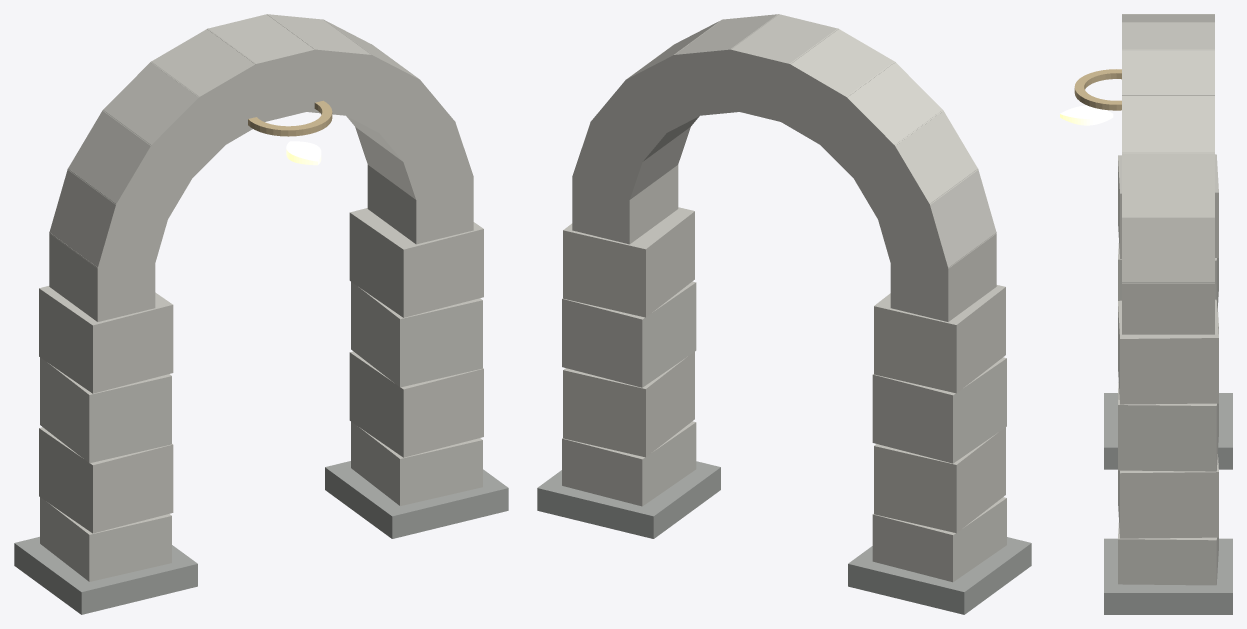
The model's file is prop_memory_arch.glb.
3 renders of one model, left to right at view 1: azimuth 30°, elevation 25°; view 2: azimuth 150°, elevation 25°; view 3: azimuth 270°, elevation 25°, orthographic. The views are drawn at different scales.
Parts seen in each view (by area): view 1: pillar_R_3, pillar_L_3, pillar_L_1, pillar_R_1, pillar_L_2, pillar_R_2, arch_7, arch_8, arch_9, arch_6, pillar_R_0, pillar_L_0 (+11 smaller); view 2: pillar_R_3, pillar_L_3, pillar_R_2, pillar_L_2, pillar_R_1, pillar_L_1, arch_8, arch_7, arch_6, pillar_L_0, pillar_R_0, arch_9 (+9 smaller); view 3: pillar_R_3, pillar_R_1, pillar_R_2, arch_1, arch_2, arch_3, base_1, arch_0, pillar_R_0, arch_4, arch_5, base_-1 (+5 smaller).
Part boxes in pixels (x1,y1,x2,y2): pillar_R_3: (349, 208, 483, 317); pillar_L_3: (39, 286, 173, 393); pillar_L_1: (39, 427, 173, 533); pillar_R_1: (349, 351, 483, 457); pillar_L_2: (40, 357, 171, 463); pillar_R_2: (351, 282, 482, 387); arch_7: (102, 61, 232, 185); arch_8: (67, 110, 195, 228); arch_9: (49, 169, 170, 272); arch_6: (150, 28, 273, 149); pillar_R_0: (351, 421, 482, 506); pillar_L_0: (40, 497, 171, 581); pillar_R_3: (563, 207, 694, 317); pillar_L_3: (874, 285, 1005, 393); pillar_R_2: (562, 281, 696, 387); pillar_L_2: (872, 357, 1006, 463); pillar_R_1: (563, 352, 694, 457); pillar_L_1: (874, 427, 1005, 533); arch_8: (849, 110, 978, 228); arch_7: (813, 61, 943, 185); arch_6: (772, 28, 895, 149); pillar_L_0: (872, 497, 1006, 582); pillar_R_0: (562, 421, 696, 506); arch_9: (876, 169, 996, 269); pillar_R_3: (1118, 299, 1218, 404); pillar_R_1: (1118, 454, 1218, 538); pillar_R_2: (1118, 388, 1218, 471); arch_1: (1122, 217, 1214, 283); arch_2: (1122, 152, 1214, 217); arch_3: (1122, 94, 1214, 153); base_1: (1104, 538, 1232, 614); arch_0: (1122, 282, 1214, 334); pillar_R_0: (1118, 523, 1218, 585); arch_4: (1122, 49, 1214, 95); arch_5: (1122, 22, 1214, 50); base_-1: (1104, 393, 1232, 469).
Bounding box in the file's own units: 5.5 × 6.14 × 2.01.
